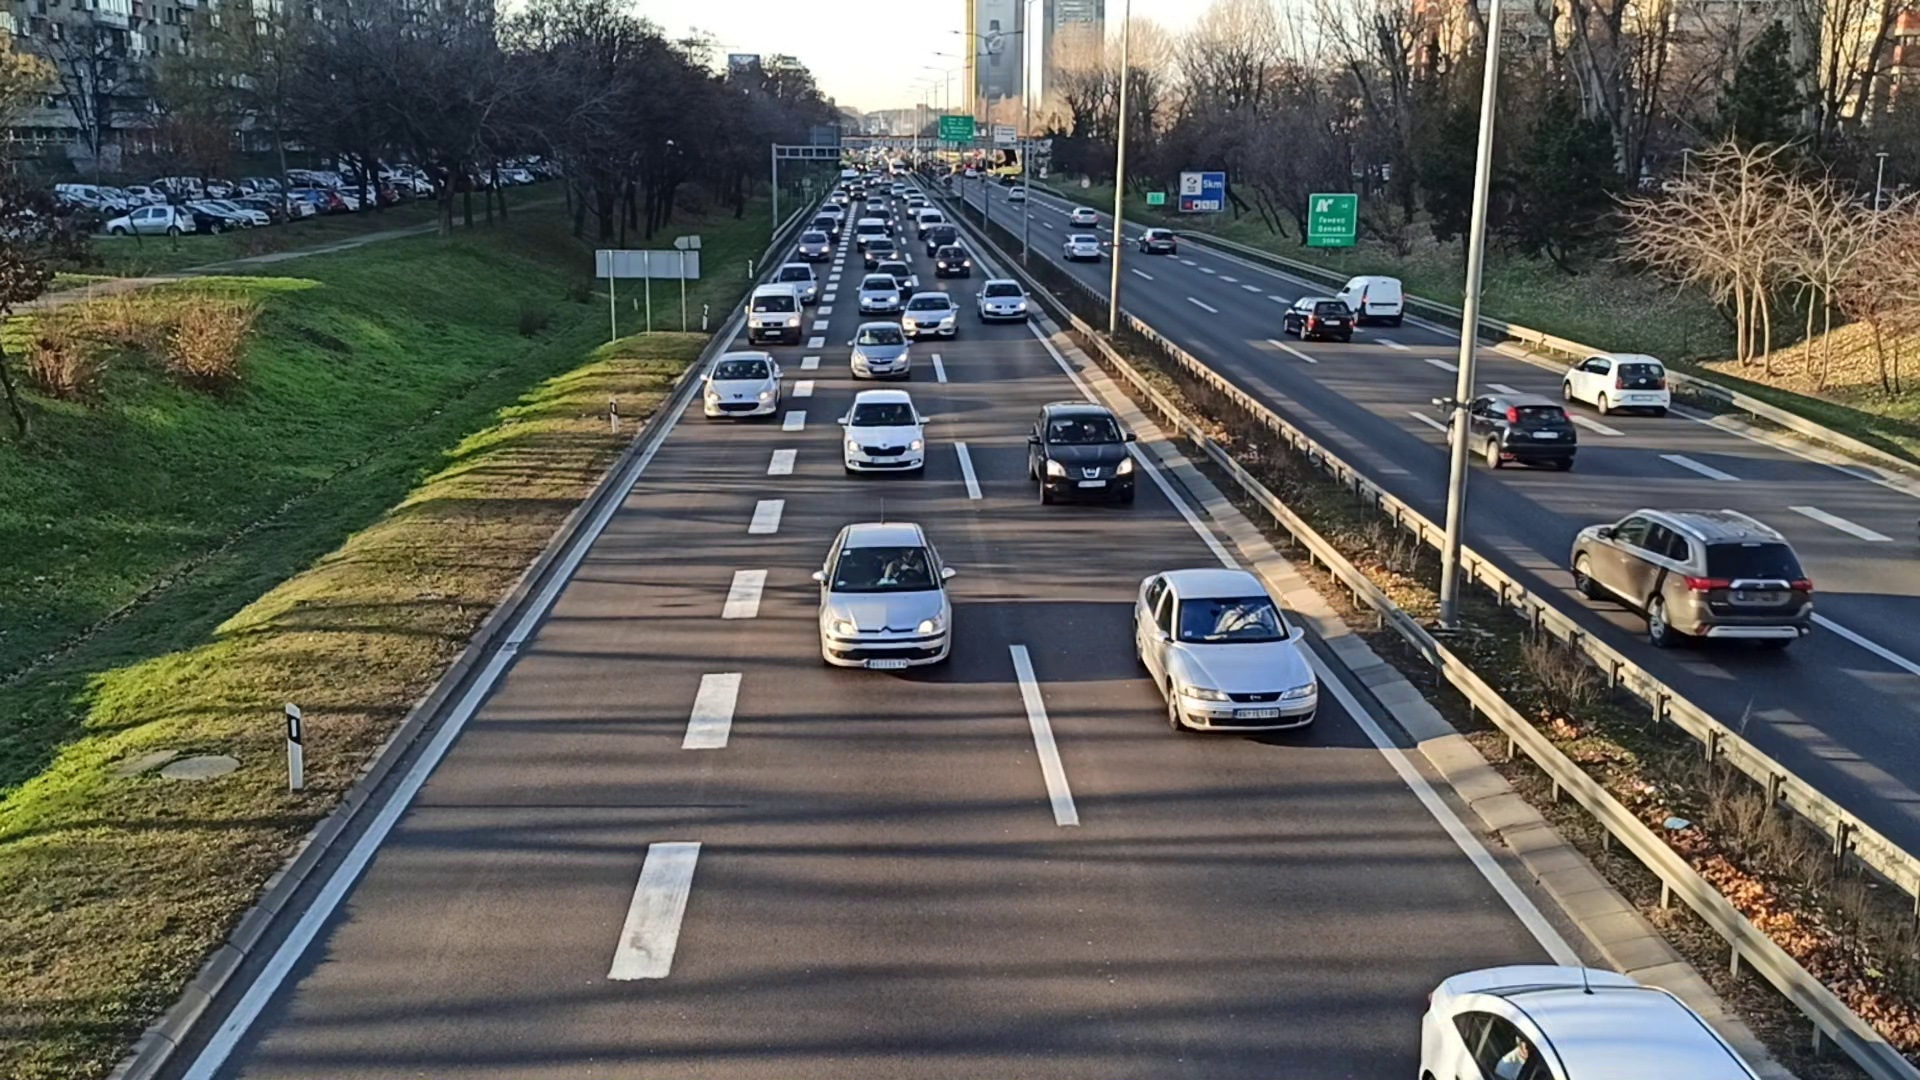car: (1571, 506, 1811, 658), (1129, 572, 1319, 738), (819, 520, 953, 669), (1445, 390, 1575, 472), (1029, 404, 1131, 501), (1563, 352, 1669, 414), (843, 393, 922, 472), (703, 352, 781, 418), (848, 323, 906, 375), (1284, 295, 1352, 339), (903, 289, 957, 342), (975, 278, 1029, 320), (778, 261, 818, 302), (858, 272, 897, 309), (930, 244, 972, 276), (877, 260, 913, 291), (862, 237, 899, 262), (796, 229, 828, 258)
van: (1335, 272, 1404, 323), (746, 285, 800, 340)
